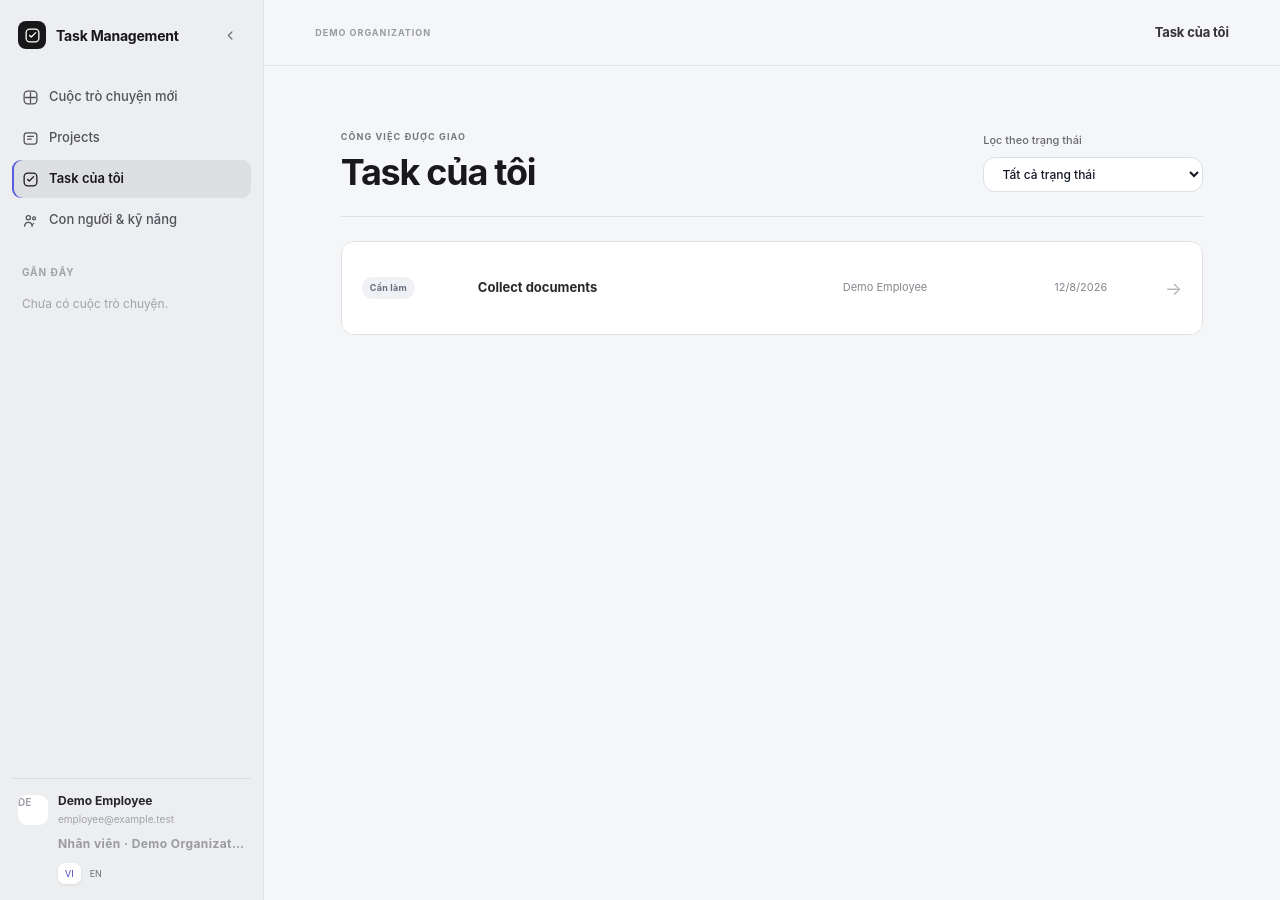
WorkWorkspace › reuses the status idempotency key after an uncertain network failure
The image size is (1280, 900).
Step 1. Click the heading "Collect documents" → coordinates (538, 287), box top-left (478, 279), bottom-right (597, 295)
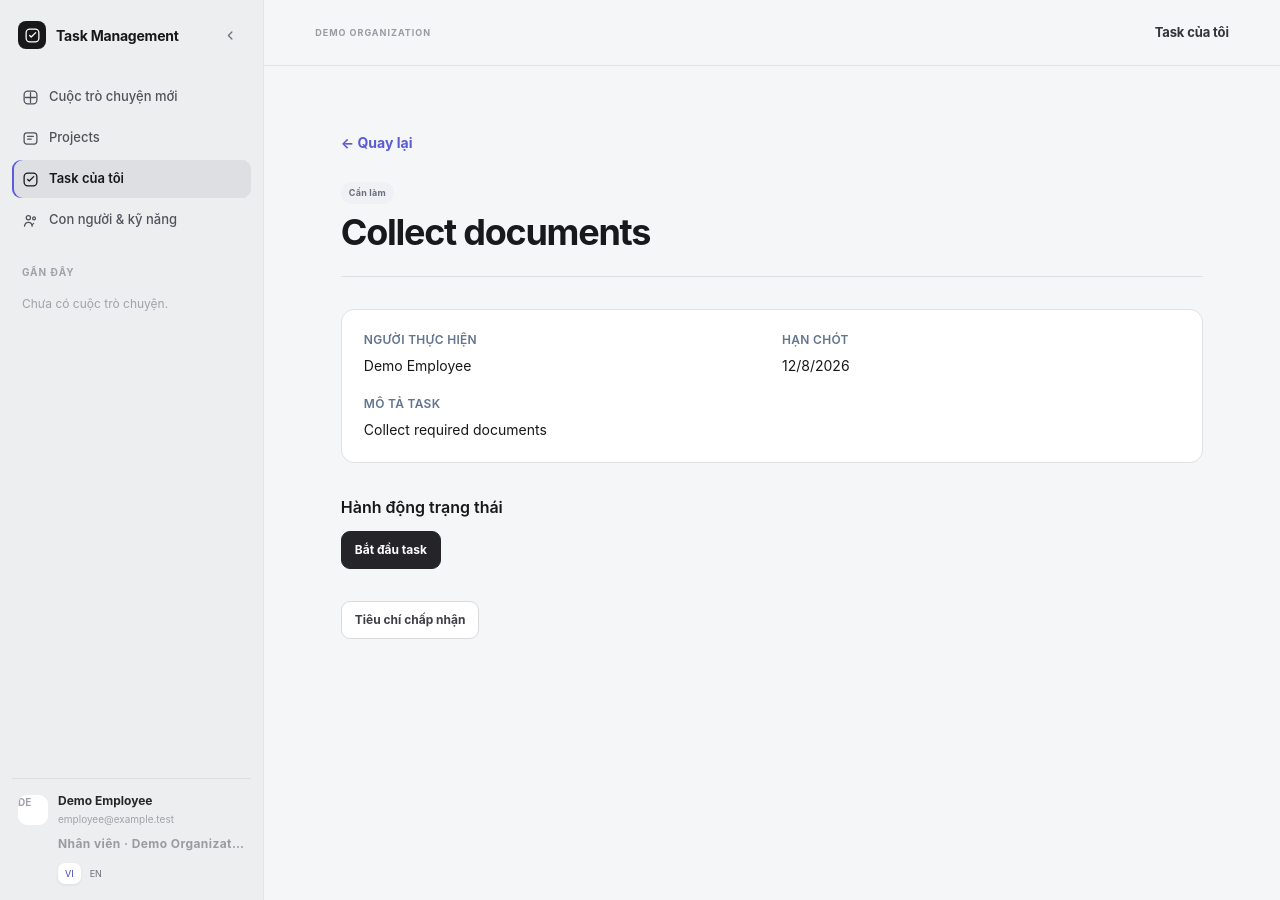
Step 2. Click the button "Bắt đầu task" → coordinates (391, 550), box top-left (341, 531), bottom-right (441, 569)
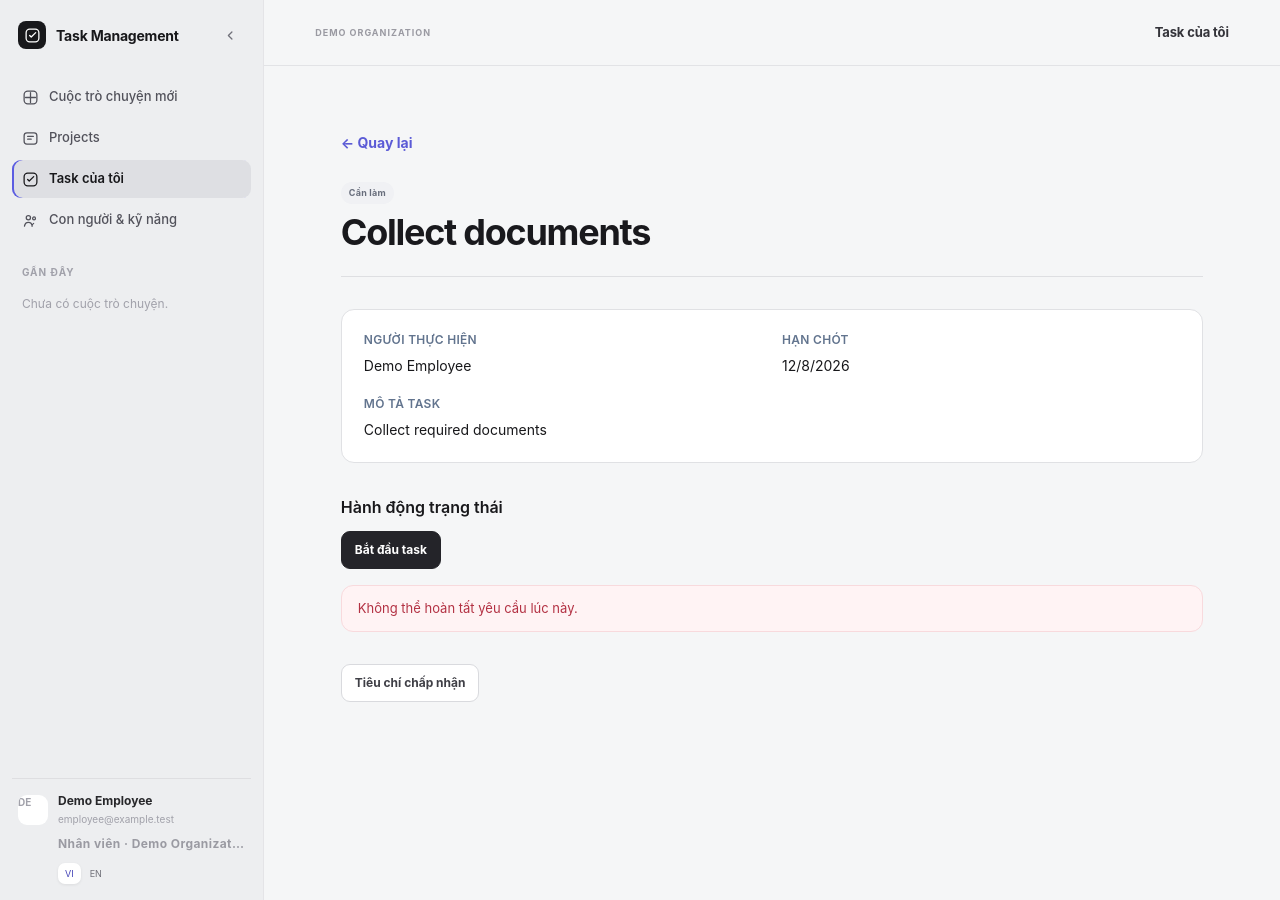
Now the message shows "Không thể hoàn tất yêu cầu", box top-left (358, 600), bottom-right (578, 616)
Step 3. Click the button "Bắt đầu task" → coordinates (391, 550), box top-left (341, 531), bottom-right (441, 569)
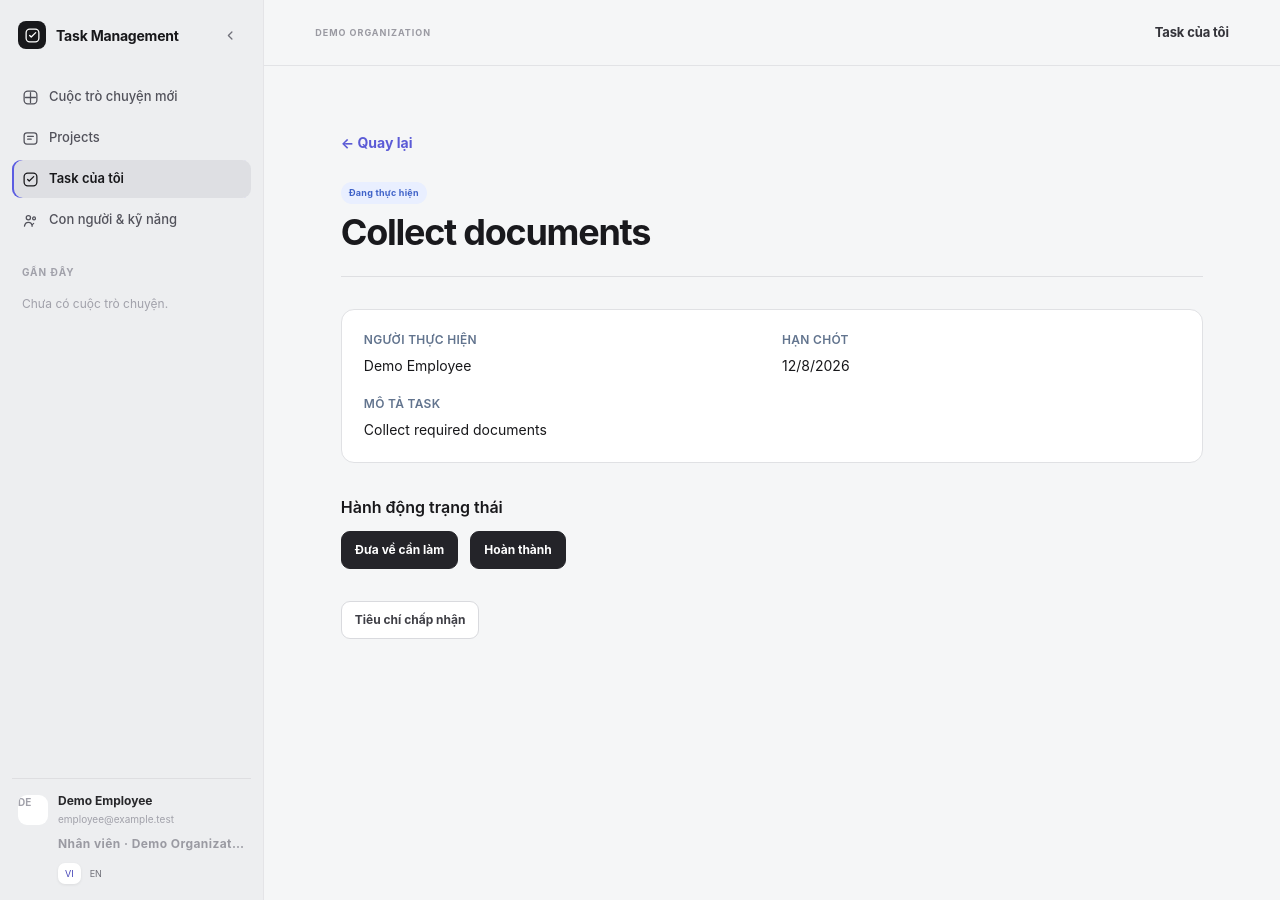
Now the text "Đang thực hiện" is shown, box top-left (341, 182), bottom-right (427, 204)
